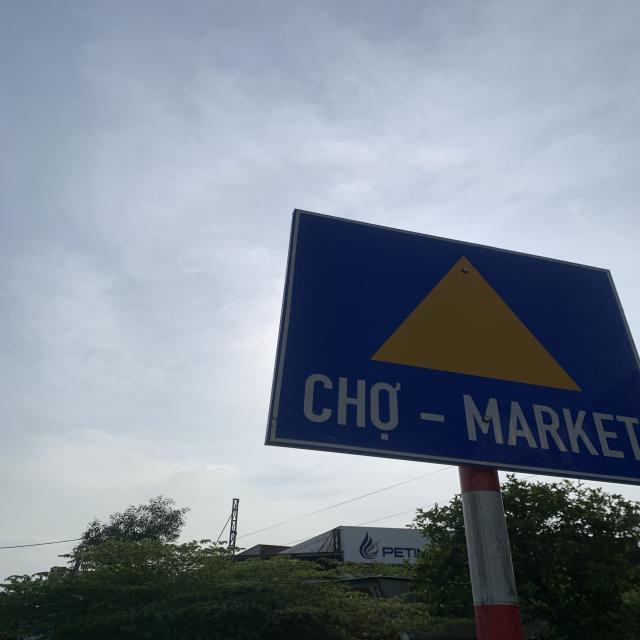Cho_Quay_Xe: (265, 211, 640, 484)
